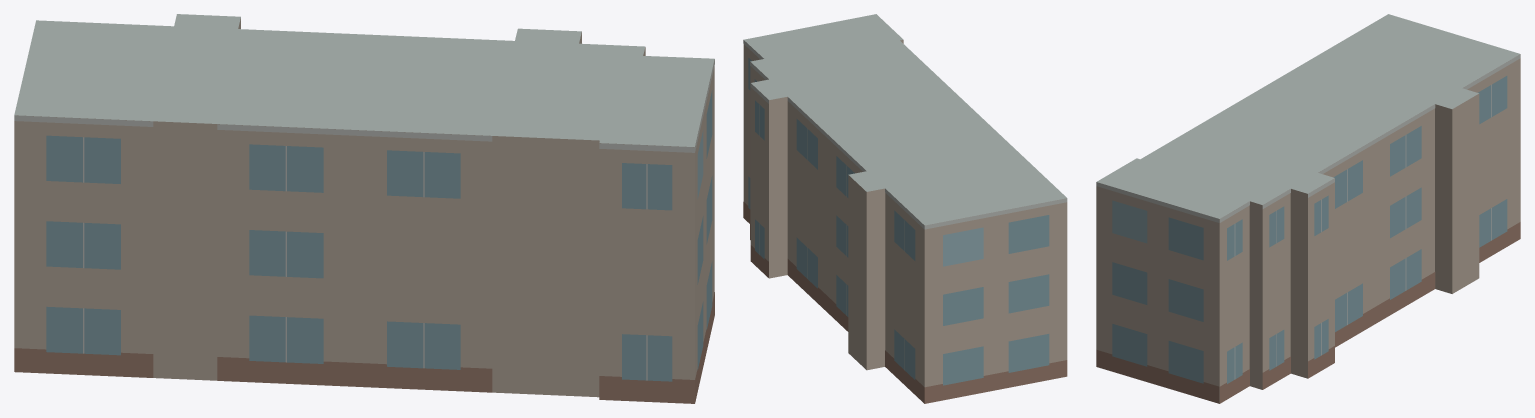
Rendered from survey-upis-32855724.glb.
The picture shows the model from 3 angles, left to right: view 1: azimuth 30°, elevation 25°; view 2: azimuth 150°, elevation 25°; view 3: azimuth 270°, elevation 25°; orthographic projection. The views are drawn at different scales.
Visible parts, largest first — view 1: survey-upis-32855724.tmp; view 2: survey-upis-32855724.tmp; view 3: survey-upis-32855724.tmp.
Part boxes in pixels (x1,y1,x2,y2): survey-upis-32855724.tmp: [14, 14, 714, 403]; survey-upis-32855724.tmp: [743, 14, 1067, 403]; survey-upis-32855724.tmp: [1096, 14, 1520, 403].
Size of the model in its own units: 25.69 by 10.8 by 22.47.
